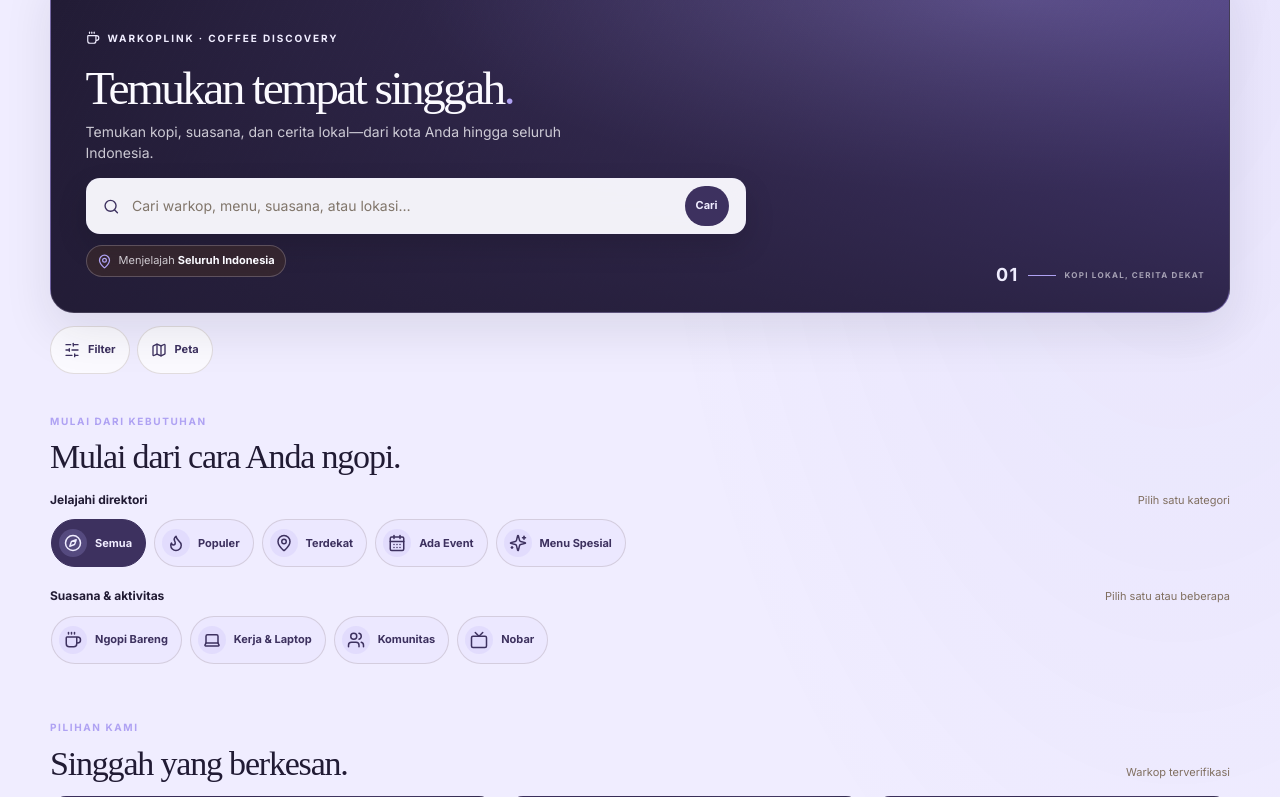
Test: kategori Terdekat dan ketersediaan GPS › menjelaskan browser tanpa geolocation dan tidak menawarkan coba lagi
The width and height of the screenshot is (1280, 797).
Click the button "Terdekat" at (314, 543), box [262, 519, 367, 567]
(page scrolled)
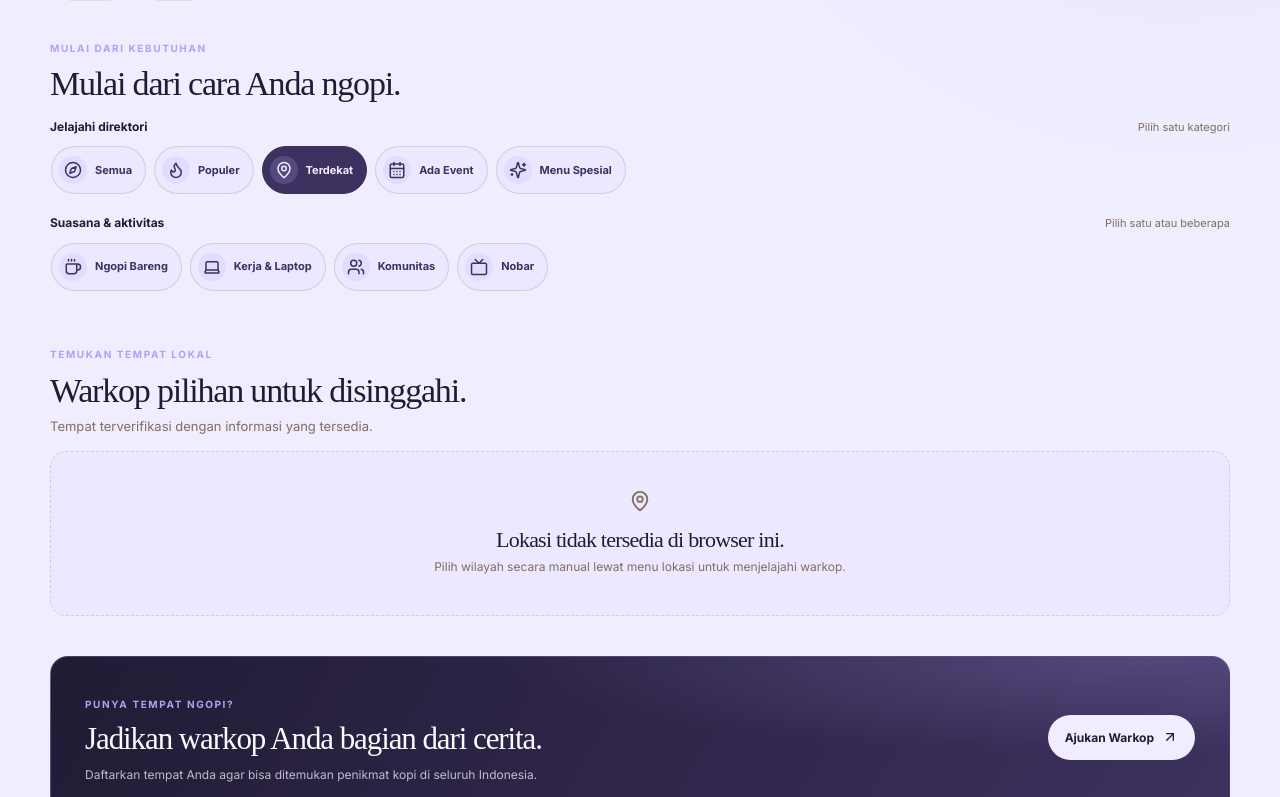
Check: the heading "Lokasi tidak tersedia di browser ini." is shown, box [496, 527, 784, 552]
